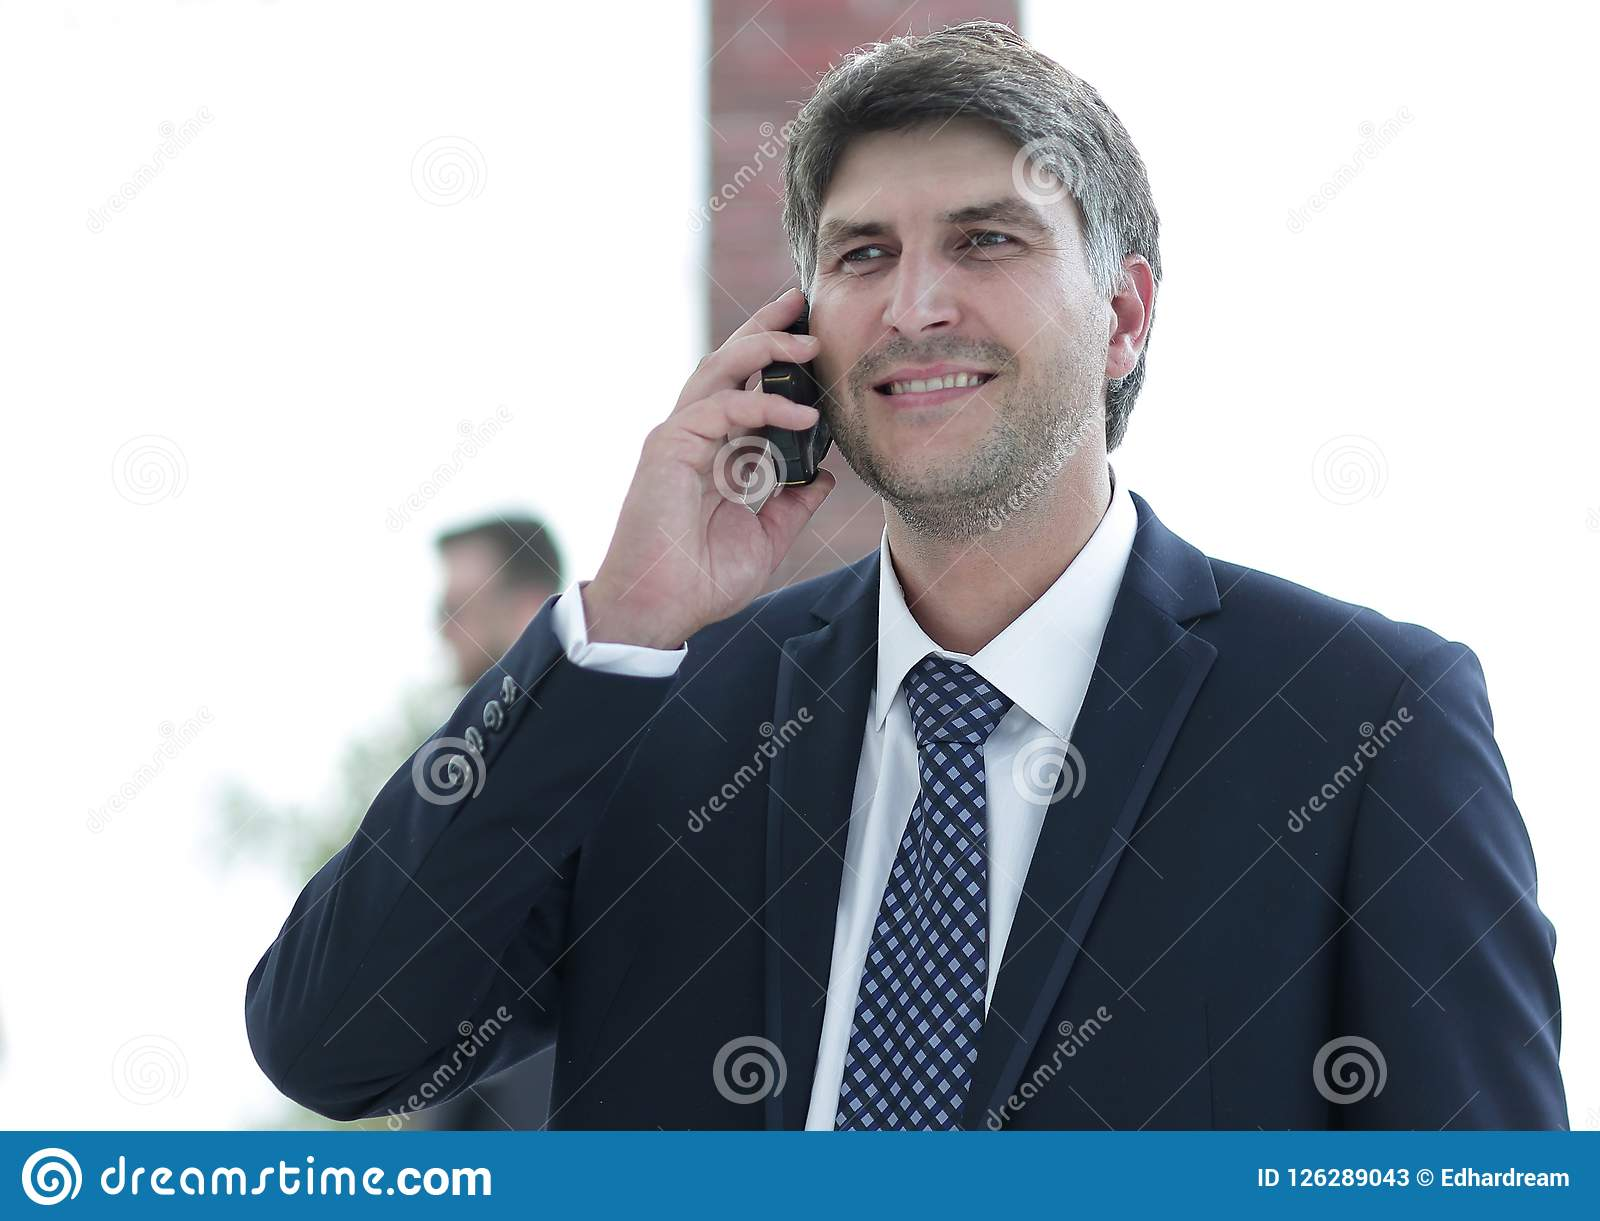phone: (762, 301, 829, 503)
talk: (609, 190, 1063, 635)
